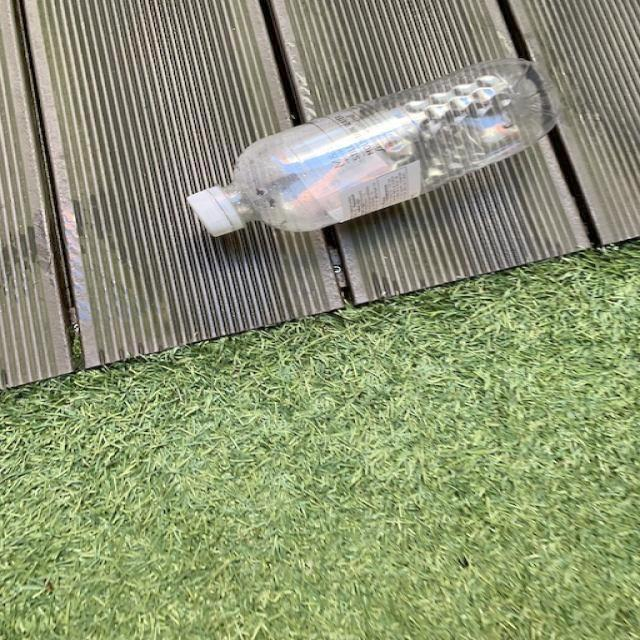bottle: (187, 58, 562, 237)
